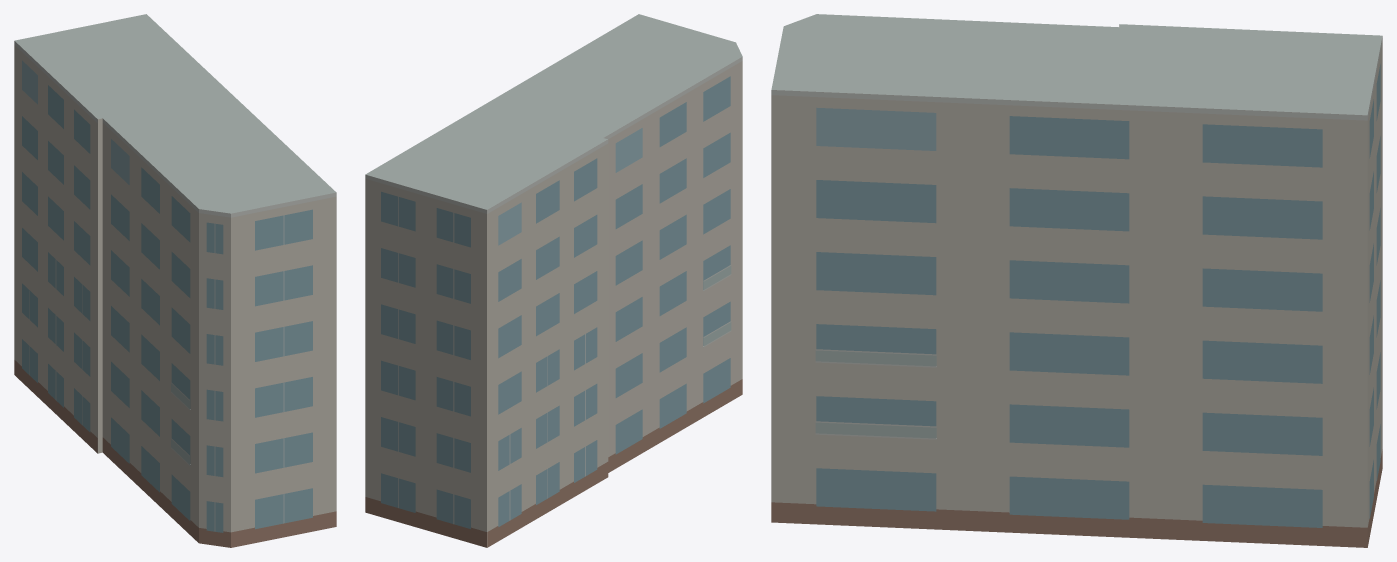
File: survey-upis-33016214.glb
3 renders of one model, left to right at view 1: azimuth 30°, elevation 25°; view 2: azimuth 150°, elevation 25°; view 3: azimuth 270°, elevation 25°, orthographic. The views are drawn at different scales.
Visible parts, largest first — view 1: survey-upis-33016214.tmp; view 2: survey-upis-33016214.tmp; view 3: survey-upis-33016214.tmp.
Boxes of the visible parts, bbox=[...] form: survey-upis-33016214.tmp: bbox=[14, 14, 336, 547]; survey-upis-33016214.tmp: bbox=[365, 14, 742, 547]; survey-upis-33016214.tmp: bbox=[771, 14, 1382, 547].
Size of the model in its own units: 10.06 by 20 by 25.62.
